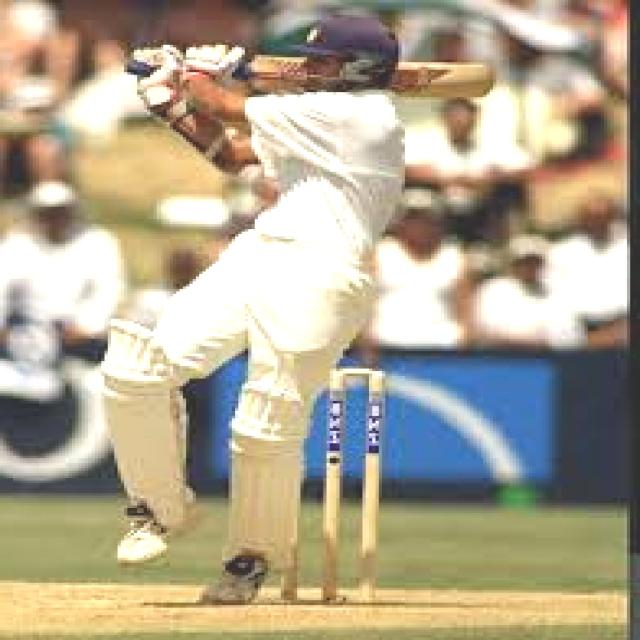toe: (477, 62, 497, 95)
